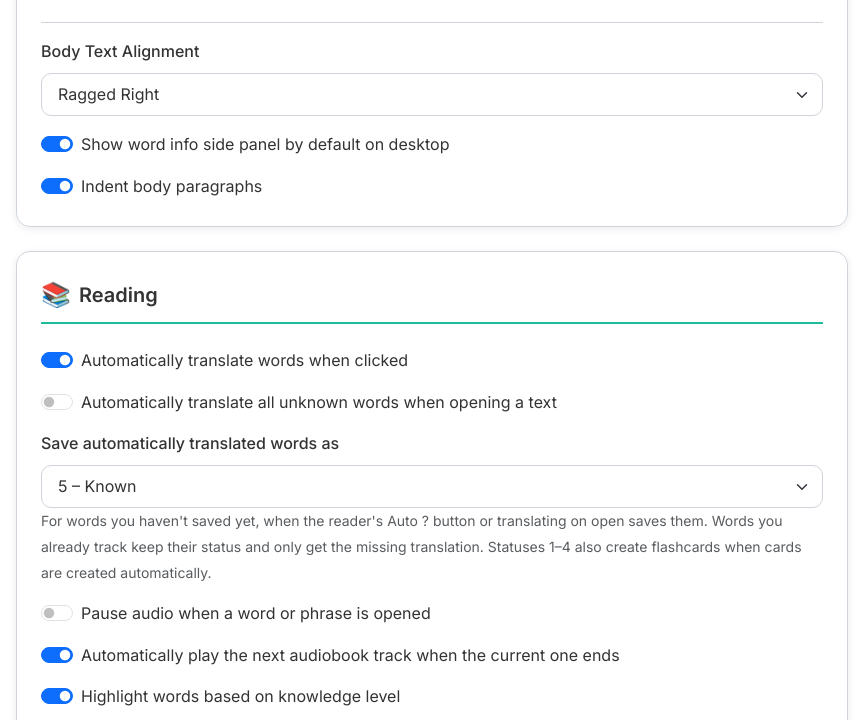
Scenario: UserSettings › shows a failed save with Retry, which sends it again
The width and height of the screenshot is (868, 720).
(page scrolled)
Click the checkbox labelled "Automatically translate words when clicked": x=57, y=360 [41,352,73,368]
Wait 150 ms
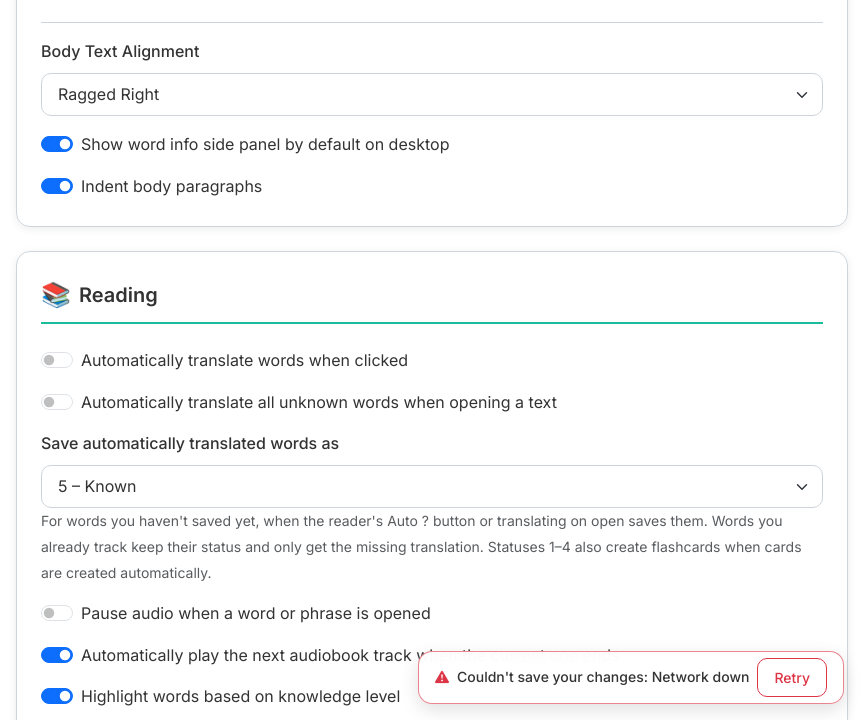
Expected: the message shows "Couldn't save your changes: Network down", [418,651,844,704]
Click the button "Retry": x=792, y=678 [757,658,827,697]
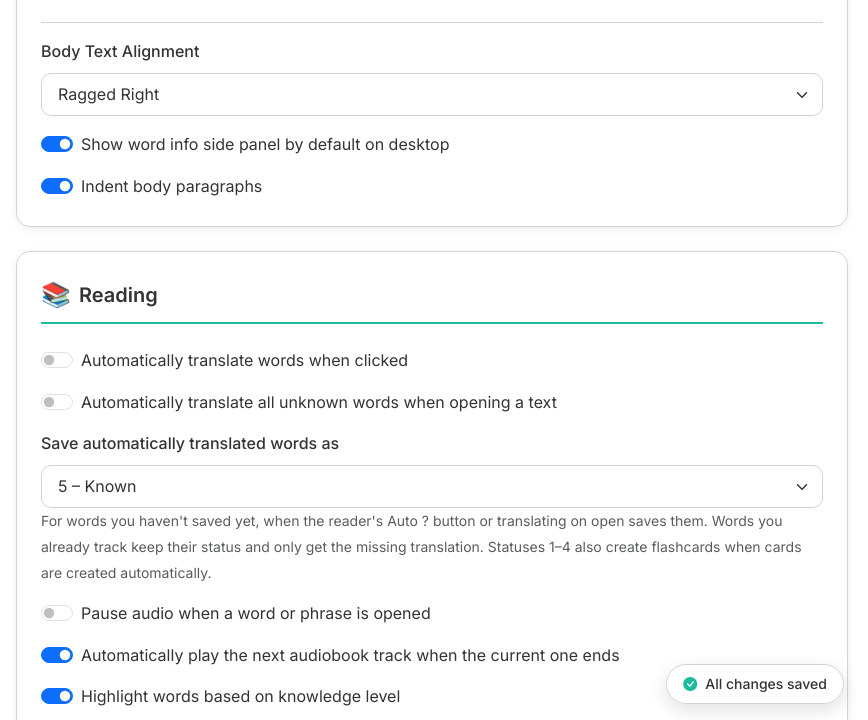
Expected: the text "All changes saved" is shown, [705,673,827,695]
Expected: the text "Couldn't save your changes" is gone
